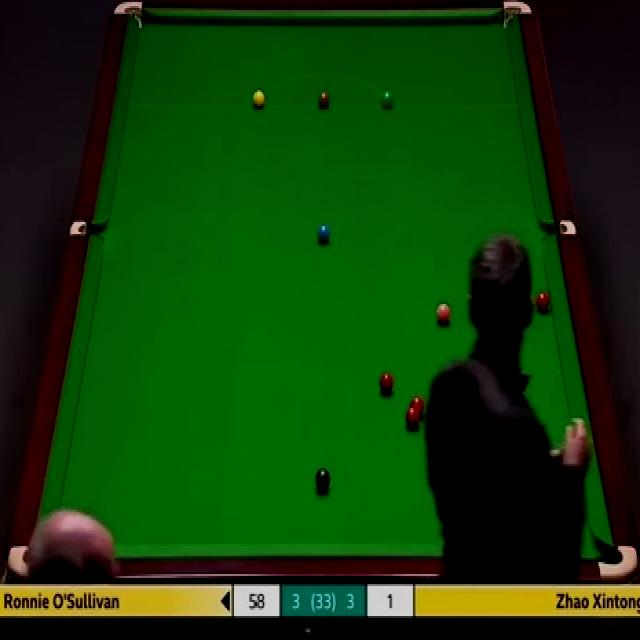pocket: (595, 545, 638, 583), (500, 0, 532, 32), (113, 0, 143, 28), (64, 217, 106, 237), (540, 220, 574, 235)
